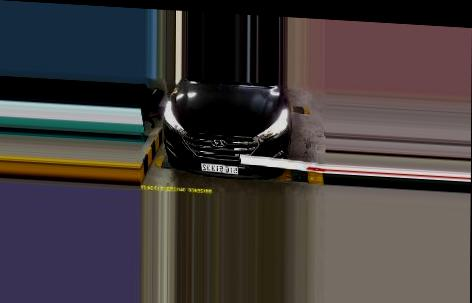License_Plate: (198, 161, 240, 174)
